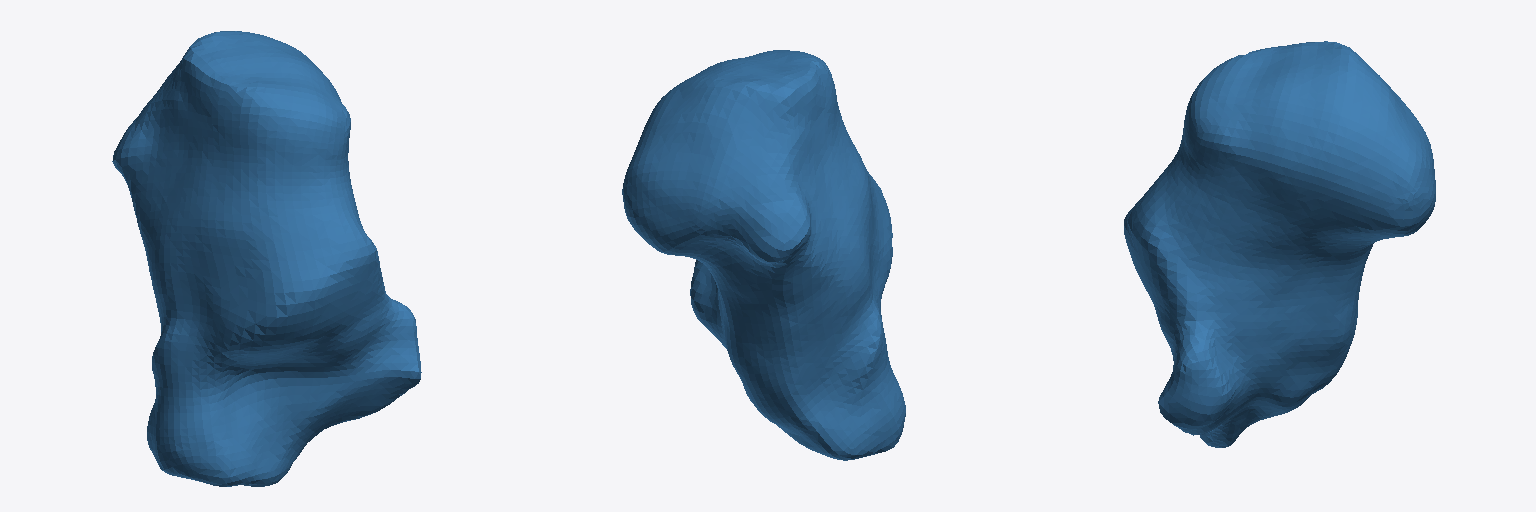
Rendered from Calcaneous.obj.
3 renders of one model, left to right at view 1: azimuth 30°, elevation 25°; view 2: azimuth 150°, elevation 25°; view 3: azimuth 270°, elevation 25°, orthographic.
Visible parts, largest first — view 1: Object_0Calcaneous; view 2: Object_0Calcaneous; view 3: Object_0Calcaneous.
Boxes of the visible parts, box(x1,y1,x2,y2) form: Object_0Calcaneous: box(112, 31, 421, 486); Object_0Calcaneous: box(622, 50, 905, 460); Object_0Calcaneous: box(1124, 41, 1435, 447).
Bounding box in the file's own units: 52.63 × 88.16 × 62.4.